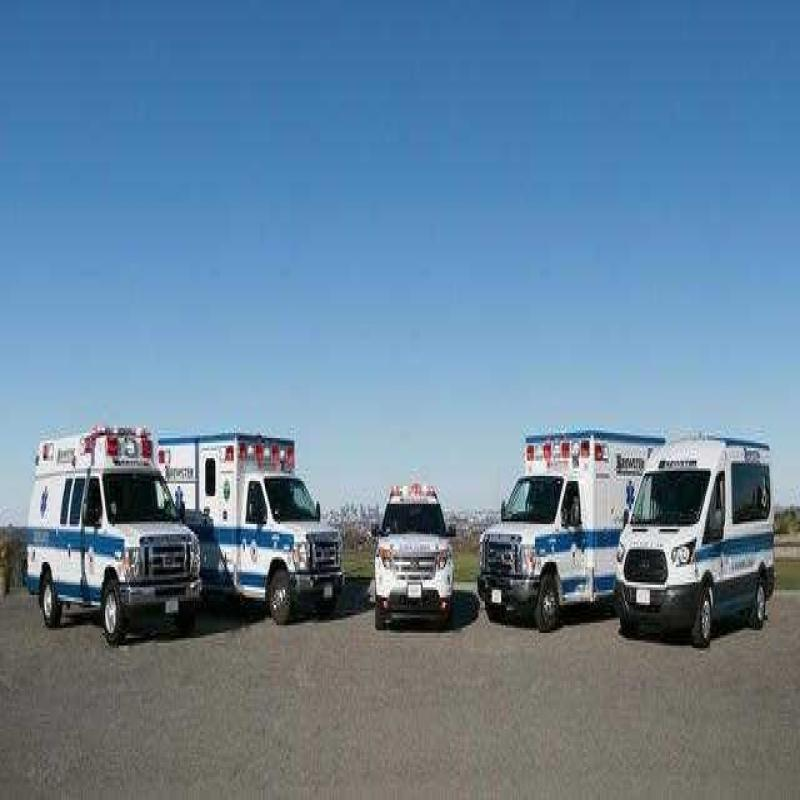AmbulanceSiren: (521, 430, 600, 470), (238, 432, 303, 469)
